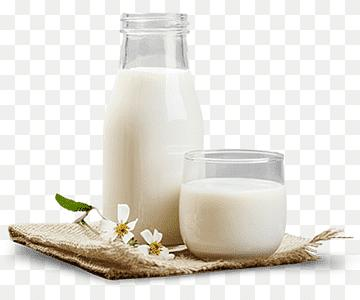produk_susu: (107, 19, 181, 204), (192, 167, 272, 249)
